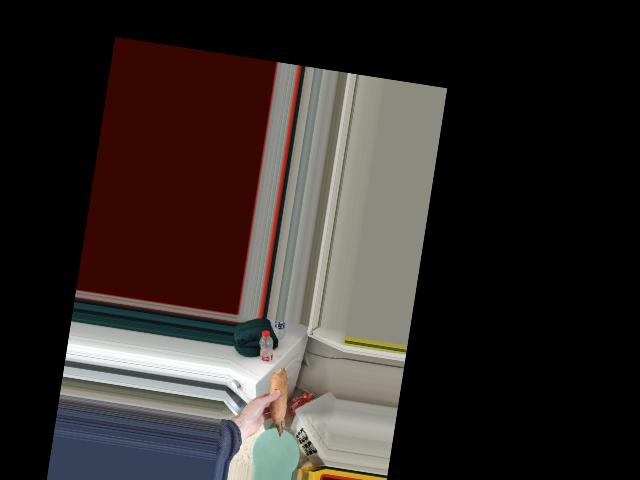sweet_potato: (263, 370, 292, 438)
